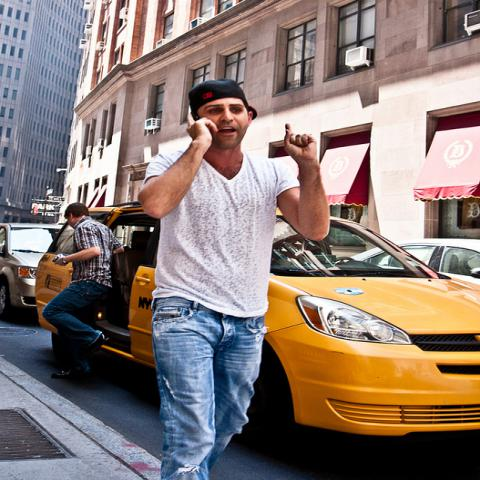car: (36, 200, 479, 436), (1, 220, 66, 318), (393, 239, 479, 285)
